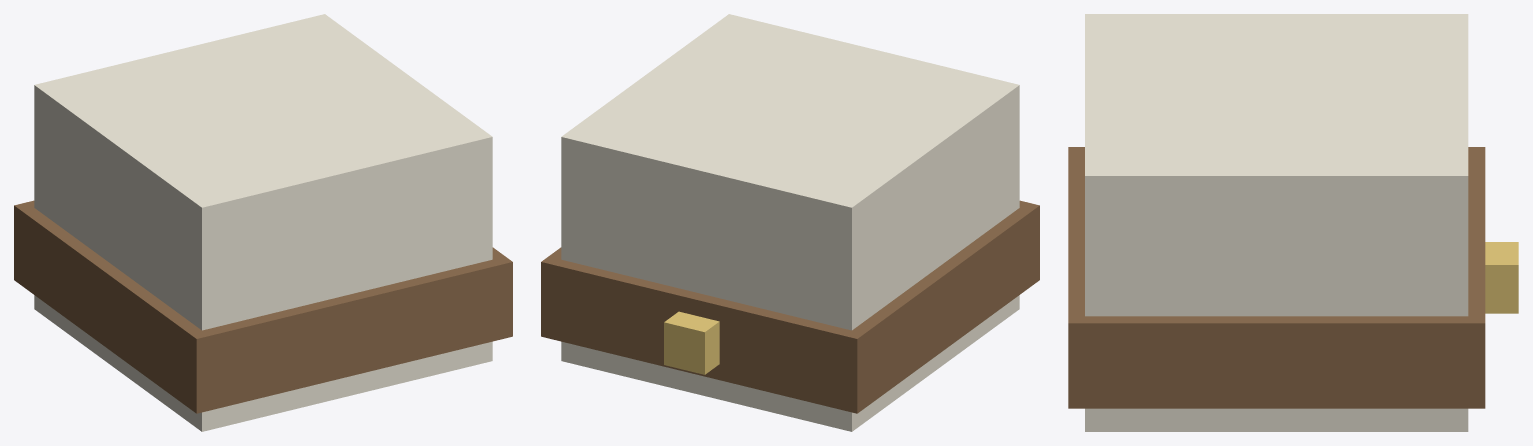
Rendered from steampunk_manga_inf.glb.
3 views of the same model, side by side, from view 1: azimuth 30°, elevation 25°; view 2: azimuth 150°, elevation 25°; view 3: azimuth 270°, elevation 25° (orthographic). The views are drawn at different scales.
Parts seen in each view (by area): view 1: steampunk_manga_inf; view 2: steampunk_manga_inf; view 3: steampunk_manga_inf.
Boxes of the visible parts, left/top/right/bottom form: steampunk_manga_inf: left=14, top=14, right=512, bottom=431; steampunk_manga_inf: left=541, top=14, right=1039, bottom=431; steampunk_manga_inf: left=1068, top=14, right=1518, bottom=431.
Size of the model in its own units: 0.31 by 0.21 by 0.335.
